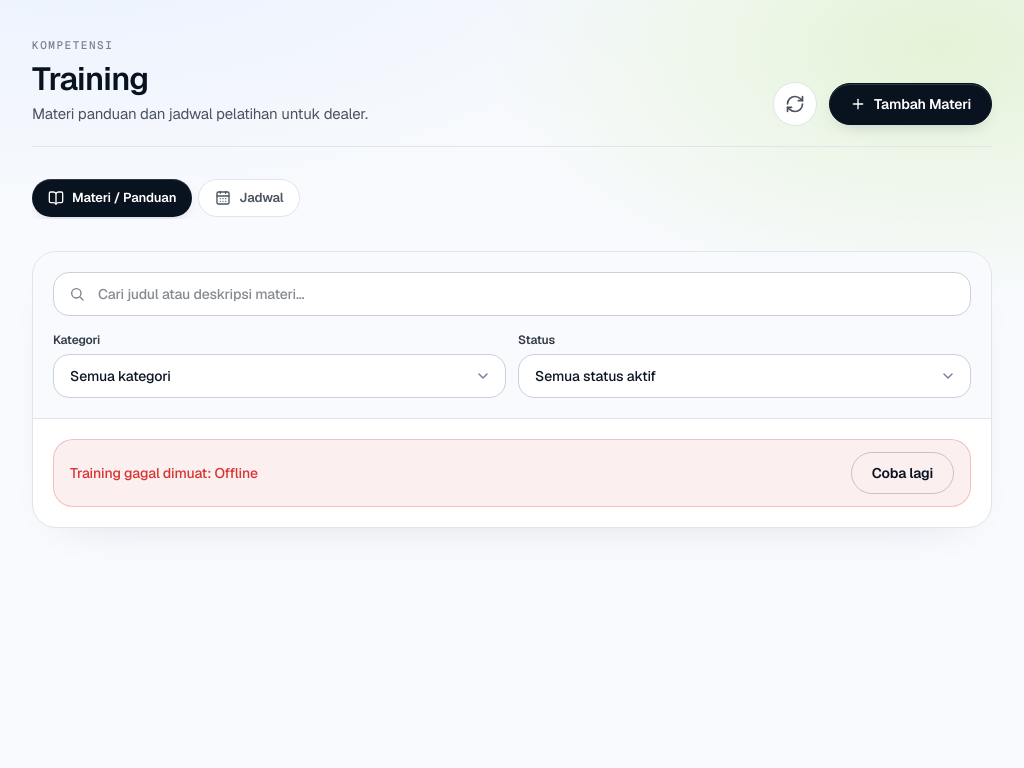
Training role flows › shows a retry state for API failures then empty state
Expected: the text "Training gagal dimuat: Offline" is shown, [70,463,258,483]
Click the button "Coba lagi" at {"x": 902, "y": 473}, box [851,452,954,494]
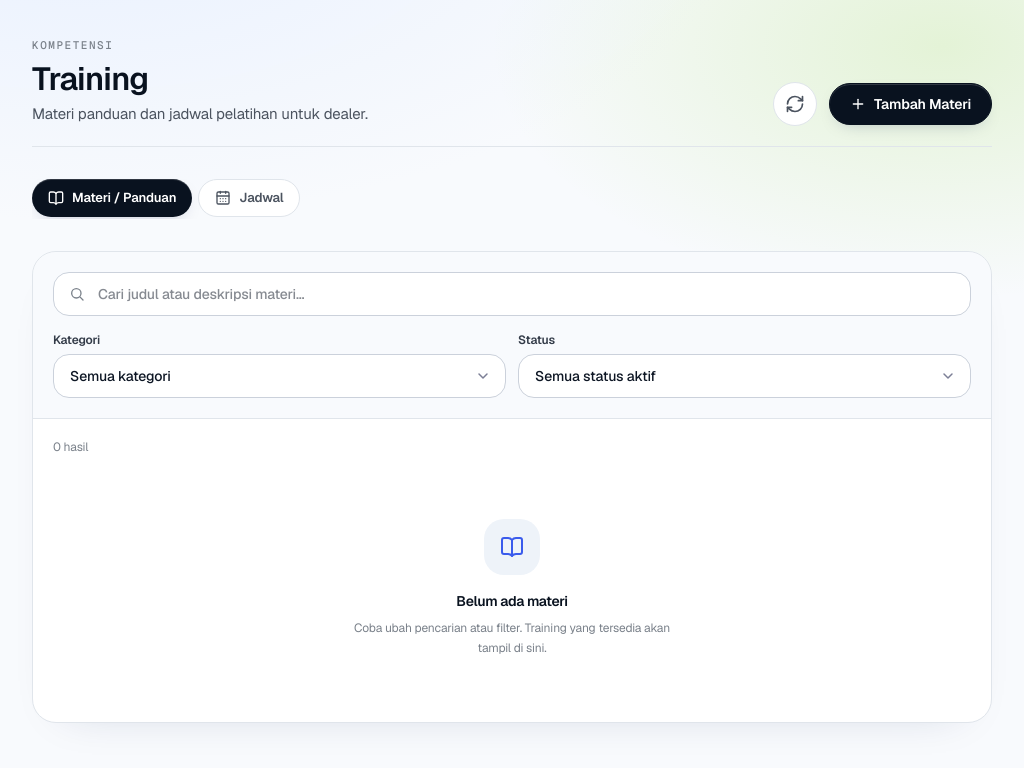
Now the heading "Belum ada materi" is shown, box [456,591,568,611]
